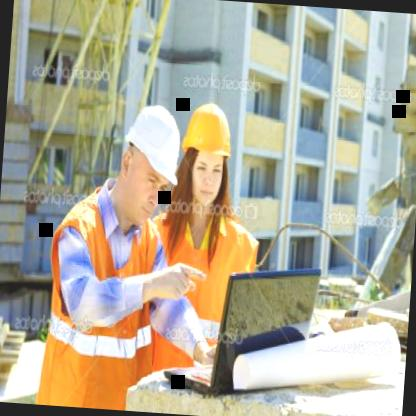helmet: (109, 90, 188, 231), (176, 90, 239, 218)
